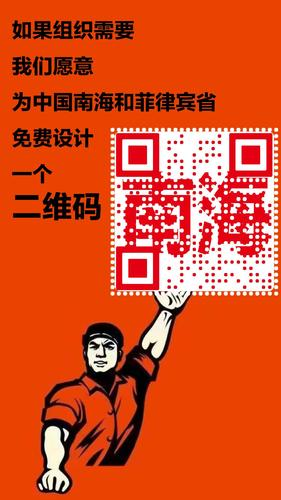QRCode: (117, 133, 275, 291)
